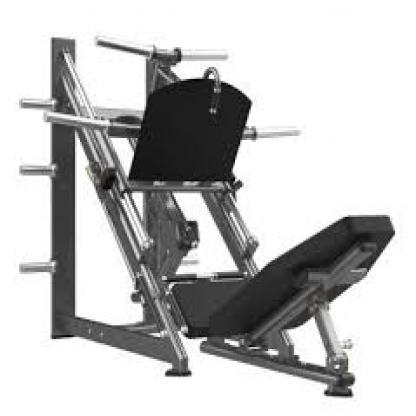leg press: (13, 22, 413, 407)
